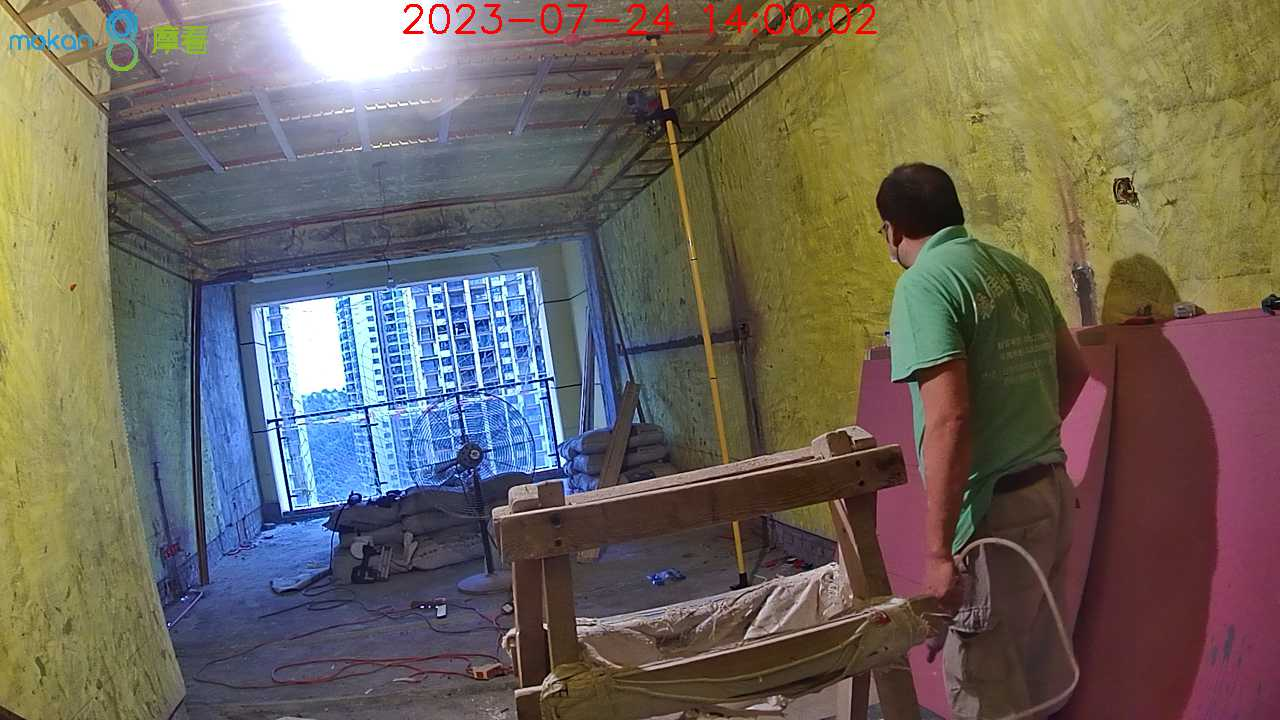people: (869, 159, 1085, 718)
window: (244, 296, 562, 494)
